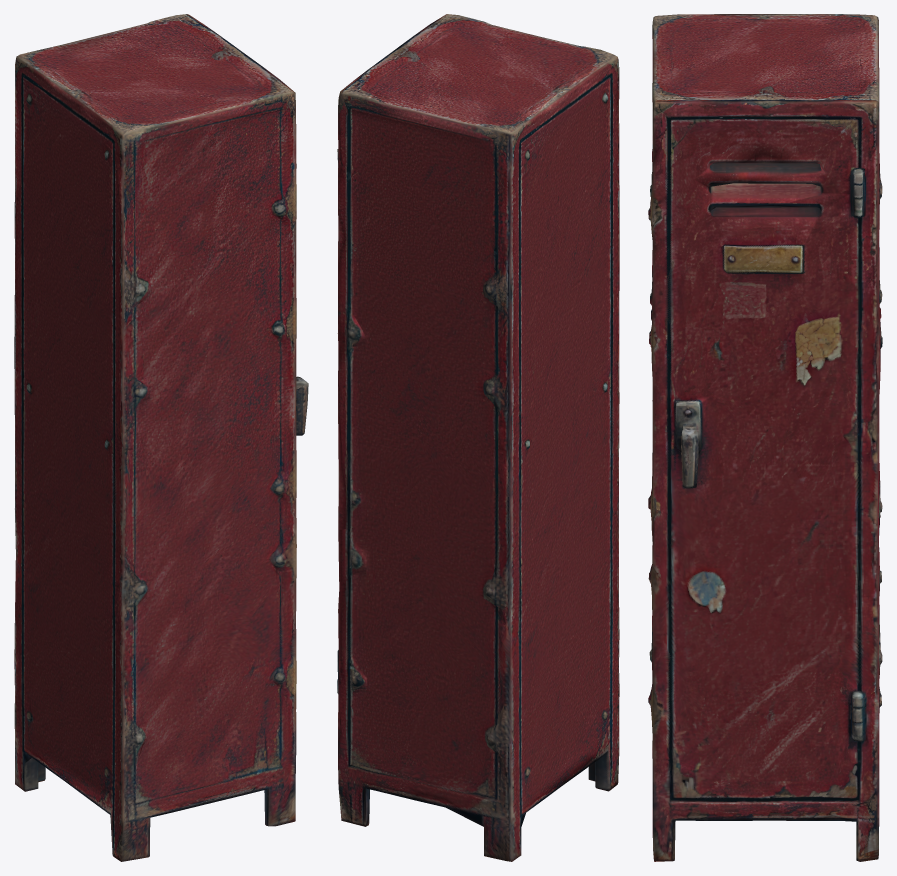
Rendered from SchoolLocker3.fbx.
The picture shows the model from 3 angles, left to right: view 1: azimuth 30°, elevation 25°; view 2: azimuth 150°, elevation 25°; view 3: azimuth 270°, elevation 25°; orthographic projection. The views are drawn at different scales.
Visible parts, largest first — view 1: tripo_node_afb125f6-e9fb-44f0-84c8-274da8d760e0; view 2: tripo_node_afb125f6-e9fb-44f0-84c8-274da8d760e0; view 3: tripo_node_afb125f6-e9fb-44f0-84c8-274da8d760e0.
Part boxes in pixels (x1,y1,x2,y2): tripo_node_afb125f6-e9fb-44f0-84c8-274da8d760e0: (14,14,308,861); tripo_node_afb125f6-e9fb-44f0-84c8-274da8d760e0: (337,14,619,861); tripo_node_afb125f6-e9fb-44f0-84c8-274da8d760e0: (648,14,882,861).
Bounding box in the file's own units: 28.93 × 100 × 27.82.
1 material, 1 textured.
